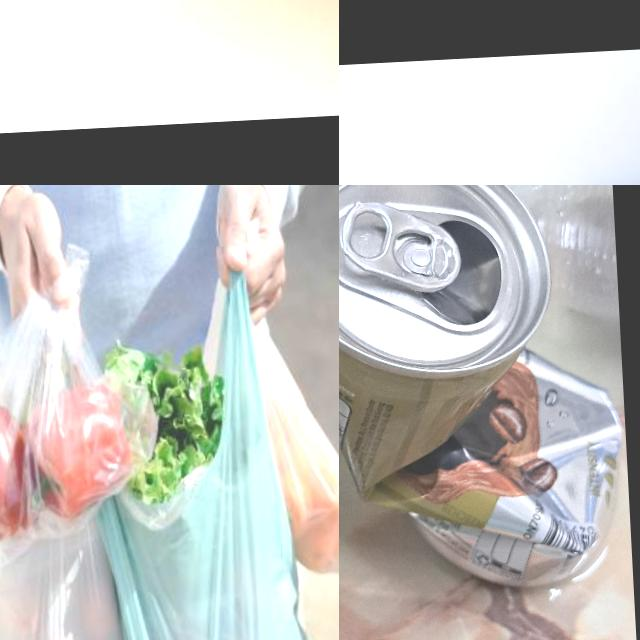aba de lata: (340, 196, 460, 296)
lata: (339, 185, 630, 599)
sacola plástica: (90, 334, 322, 640), (0, 298, 126, 542), (250, 284, 339, 624), (0, 536, 149, 640)
